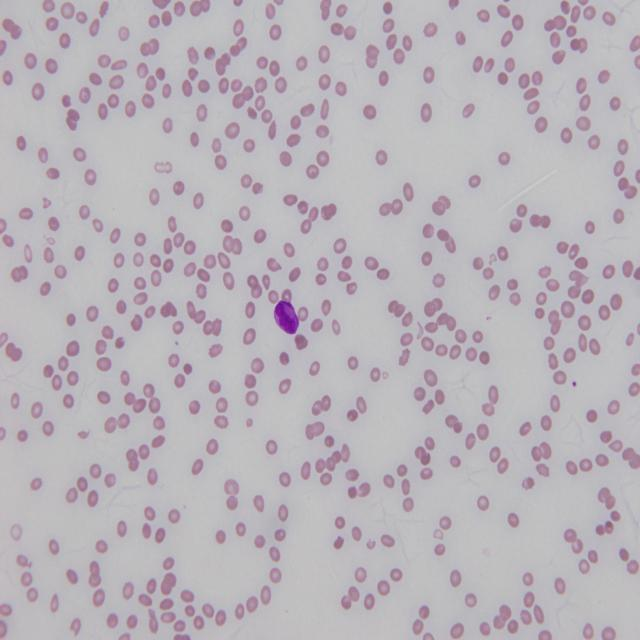cell: (274, 300, 299, 335)
